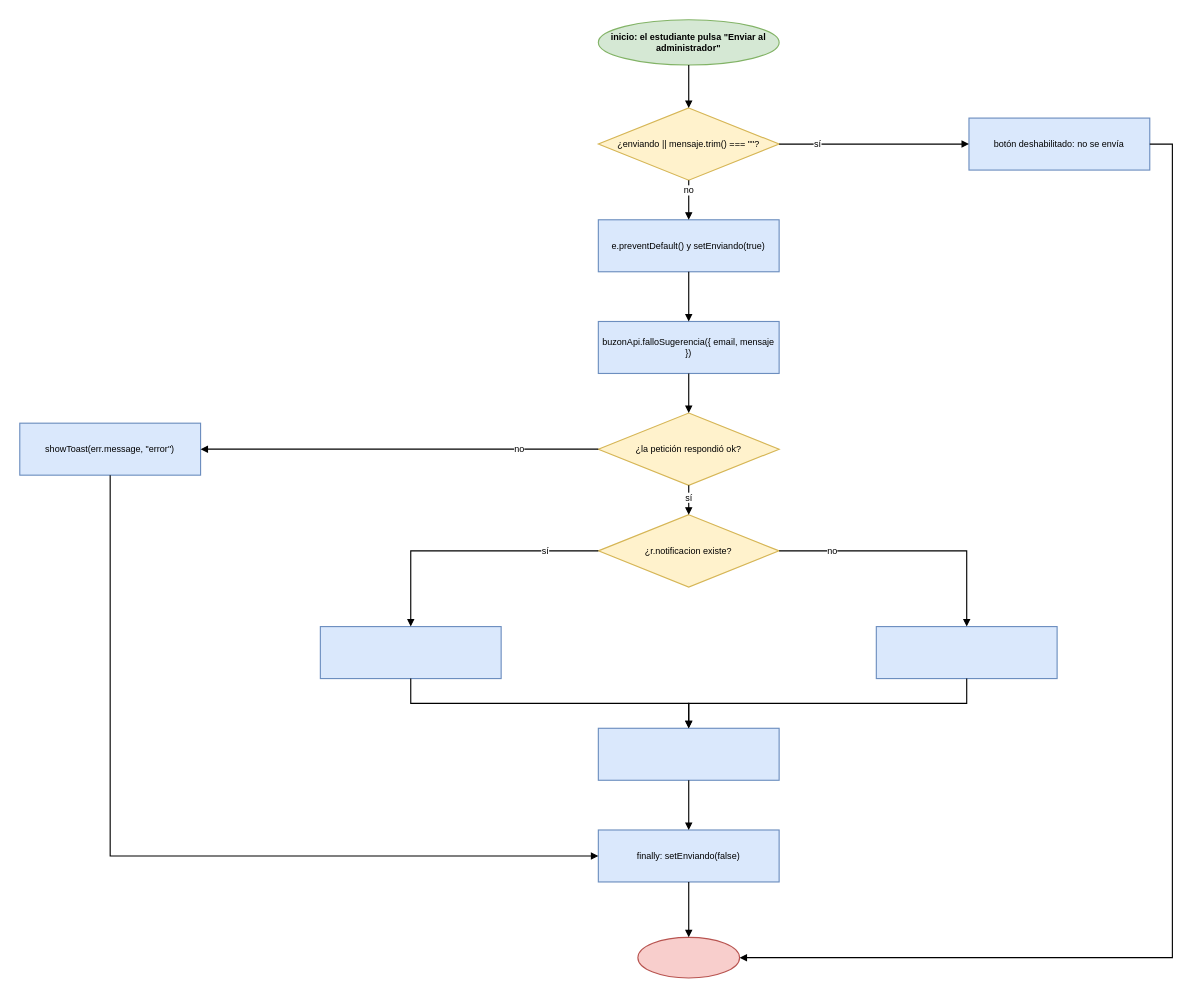
Image size: 1199x998. Some labels were removed from this diagram. Each missing label, with the box of its shape:
fin: (637, 936, 740, 978)
setMensaje(""): (597, 727, 779, 780)
showToast("Mensaje enviado.", "success"): (875, 625, 1057, 679)
showToast(r.notificacion, "success"): (319, 625, 501, 679)
